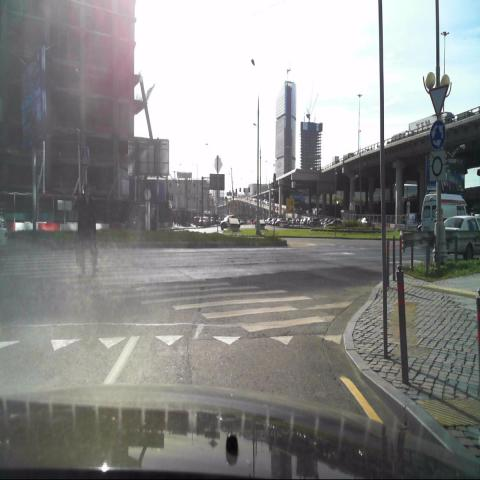4_3: (430, 117, 446, 150)
8_13_1: (429, 151, 445, 182)
